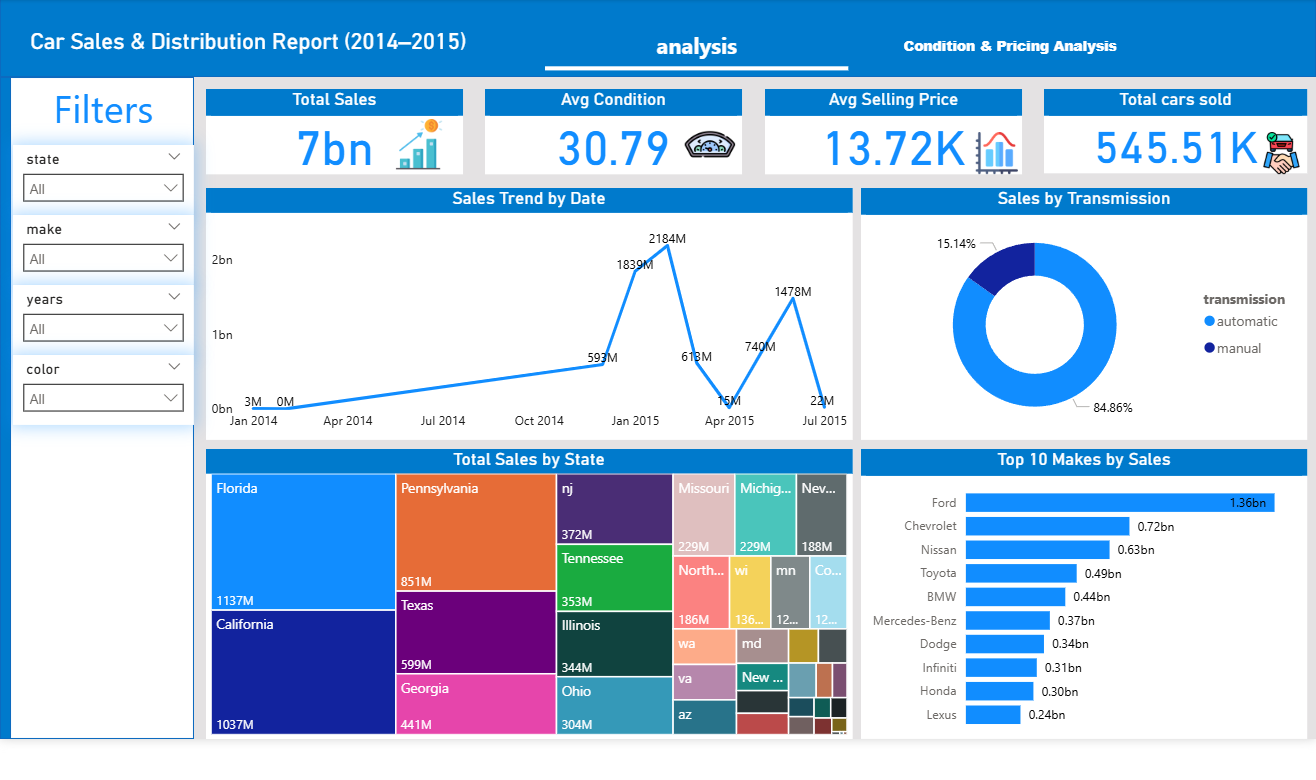

What the dashboard file says about the page in this screenshot:
{"tool":"powerbi","page":{"name":"analysis","canvas":[1280,720],"ordinal":0},"visuals":[{"type":"shape","box":[0,0,1280,75.9],"z":1000},{"type":"shape","box":[0,75.6,24.8,643.9],"z":2000},{"type":"textbox","box":[24.3,23.3,447.4,41.8],"z":4000},{"type":"card","title":"Total Sales","fields":{"Values":["Sum(car_prices - Copy.sellingprice)"]},"box":[200.4,87.5,250,82.7],"z":5000},{"type":"card","title":"Avg Condition","fields":{"Values":["Avg(car_prices - Copy.condition)"]},"box":[472.1,87.5,250,82.7],"z":6000},{"type":"shape","box":[9.7,75.9,179,643.9],"z":7000},{"type":"card","title":"Total cars sold","fields":{"Values":["CountNonNull(car_prices - Copy.sellingprice)"]},"box":[1015,88,256,82],"z":8000},{"type":"card","title":"Avg Selling Price","fields":{"Values":["Avg(car_prices - Copy.sellingprice)"]},"box":[743.7,87.5,250,82.7],"z":9000},{"type":"barChart","title":"Top 10 Makes by Sales","fields":{"Category":["car_prices - Copy.make"],"Y":["Sum(car_prices - Copy.sellingprice)"]},"box":[837,438,434,282],"z":10000},{"type":"treemap","title":"Total Sales by State","fields":{"Group":["car_prices - Copy.state"],"Values":["Sum(car_prices - Copy.sellingprice)"]},"box":[200.8,437.7,628.5,282.8],"z":11000},{"type":"lineChart","title":"Sales Trend by Date","fields":{"Y":["Sum(car_prices - Copy.sellingprice)"],"Category":["car_prices - Copy.Text Between Delimiters.Variation.Date Hierarchy.Year","car_prices - Copy.Text Between Delimiters.Variation.Date Hierarchy.Month"]},"box":[200.8,183.9,628.5,244.8],"z":12000},{"type":"donutChart","title":"Sales by Transmission","fields":{"Y":["Sum(car_prices - Copy.sellingprice)"],"Category":["car_prices - Copy.transmission"]},"box":[837,184,434,245],"z":13000},{"type":"slicer","fields":{"Values":["car_prices - Copy.state"]},"box":[12.6,142,176,68.1],"z":14000},{"type":"textbox","box":[12.6,75.9,176,66.1],"z":15000},{"type":"slicer","fields":{"Values":["car_prices - Copy.make"]},"box":[12.6,210.1,176,68.1],"z":16000},{"type":"slicer","fields":{"Values":["car_prices - Copy.Text Between Delimiters.Variation.Date Hierarchy.Year","car_prices - Copy.Text Between Delimiters.Variation.Date Hierarchy.Quarter","car_prices - Copy.Text Between Delimiters.Variation.Date Hierarchy.Month","car_prices - Copy.Text Between Delimiters.Variation.Date Hierarchy.Day"]},"box":[12.6,278.2,176,68.1],"z":17000},{"type":"image","box":[357,117,100,49],"z":18000},{"type":"image","box":[640,117,100,49],"z":19000},{"type":"image","box":[1213,129,67,41],"z":20000},{"type":"image","box":[923,129,92,41],"z":21000},{"type":"pageNavigator","box":[530,19,600,50],"z":22000},{"type":"slicer","fields":{"Values":["car_prices - Copy.color"]},"box":[13,346,176,68],"z":23000}]}

Visuals, with their boxes on the page's 1280x720 design canvas (x1, y1, x2, y2). These are canvas units, not pixel positions in the 1316x780 screenshot, which may show the page scaled, cropped or inside an application window:
shape: [x1=0, y1=0, x2=1280, y2=76]
shape: [x1=0, y1=76, x2=25, y2=720]
textbox: [x1=24, y1=23, x2=472, y2=65]
"Total Sales" card: [x1=200, y1=88, x2=450, y2=170]
"Avg Condition" card: [x1=472, y1=88, x2=722, y2=170]
shape: [x1=10, y1=76, x2=189, y2=720]
"Total cars sold" card: [x1=1015, y1=88, x2=1271, y2=170]
"Avg Selling Price" card: [x1=744, y1=88, x2=994, y2=170]
"Top 10 Makes by Sales" barChart: [x1=837, y1=438, x2=1271, y2=720]
"Total Sales by State" treemap: [x1=201, y1=438, x2=829, y2=720]
"Sales Trend by Date" lineChart: [x1=201, y1=184, x2=829, y2=429]
"Sales by Transmission" donutChart: [x1=837, y1=184, x2=1271, y2=429]
slicer - car_prices - Copy.state: [x1=13, y1=142, x2=189, y2=210]
textbox: [x1=13, y1=76, x2=189, y2=142]
slicer - car_prices - Copy.make: [x1=13, y1=210, x2=189, y2=278]
slicer - car_prices - Copy.Text Between Delimiters.Variation.Date Hierarchy.Year x car_prices - Copy.Text Between Delimiters.Variation.Date Hierarchy.Quarter: [x1=13, y1=278, x2=189, y2=346]
image: [x1=357, y1=117, x2=457, y2=166]
image: [x1=640, y1=117, x2=740, y2=166]
image: [x1=1213, y1=129, x2=1280, y2=170]
image: [x1=923, y1=129, x2=1015, y2=170]
pageNavigator: [x1=530, y1=19, x2=1130, y2=69]
slicer - car_prices - Copy.color: [x1=13, y1=346, x2=189, y2=414]
